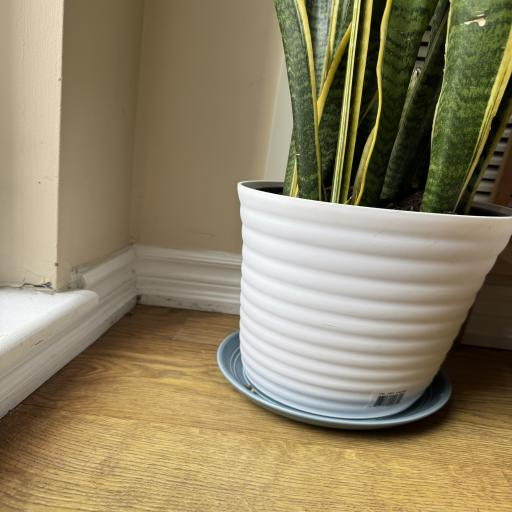Plant Pot: (228, 170, 512, 415)
